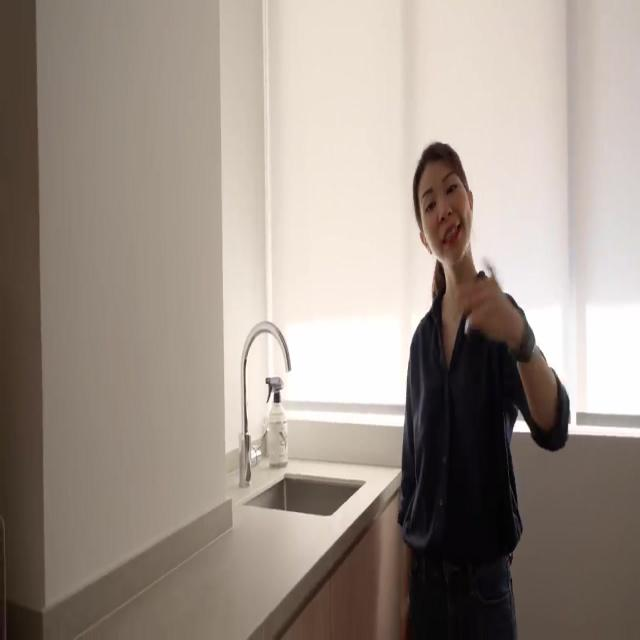person: (397, 141, 570, 639)
